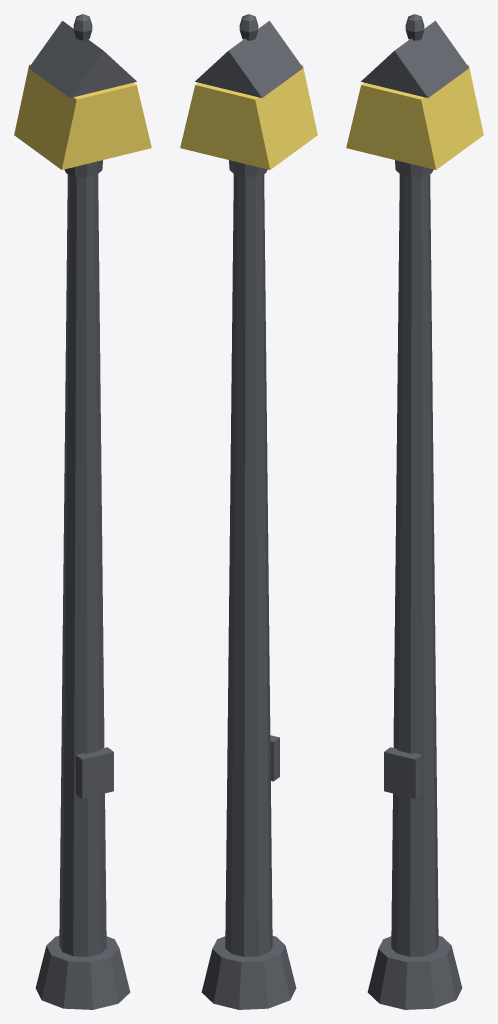
The model's file is 33677-Park-Lamp-Post-City-Park-and-Playground.glb.
The picture shows the model from 3 angles, left to right: view 1: azimuth 30°, elevation 25°; view 2: azimuth 150°, elevation 25°; view 3: azimuth 330°, elevation 25°; orthographic projection.
Visible parts, largest first — view 1: park-lamp-post-charcoal, park-lamp-post-sunflower; view 2: park-lamp-post-charcoal, park-lamp-post-sunflower; view 3: park-lamp-post-charcoal, park-lamp-post-sunflower.
Part boxes in pixels (left/top/right/bottom): park-lamp-post-charcoal: left=29, top=14, right=136, bottom=1009; park-lamp-post-sunflower: left=14, top=64, right=151, bottom=169; park-lamp-post-charcoal: left=195, top=14, right=302, bottom=1009; park-lamp-post-sunflower: left=180, top=64, right=317, bottom=169; park-lamp-post-charcoal: left=361, top=14, right=468, bottom=1009; park-lamp-post-sunflower: left=346, top=64, right=483, bottom=169.
Bounding box in the file's own units: 0.48 × 4.97 × 0.44.
